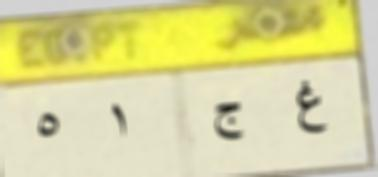1: (106, 99, 132, 140)
5: (31, 106, 60, 144)
ghayn: (292, 74, 334, 144)
jeem: (209, 100, 246, 145)
